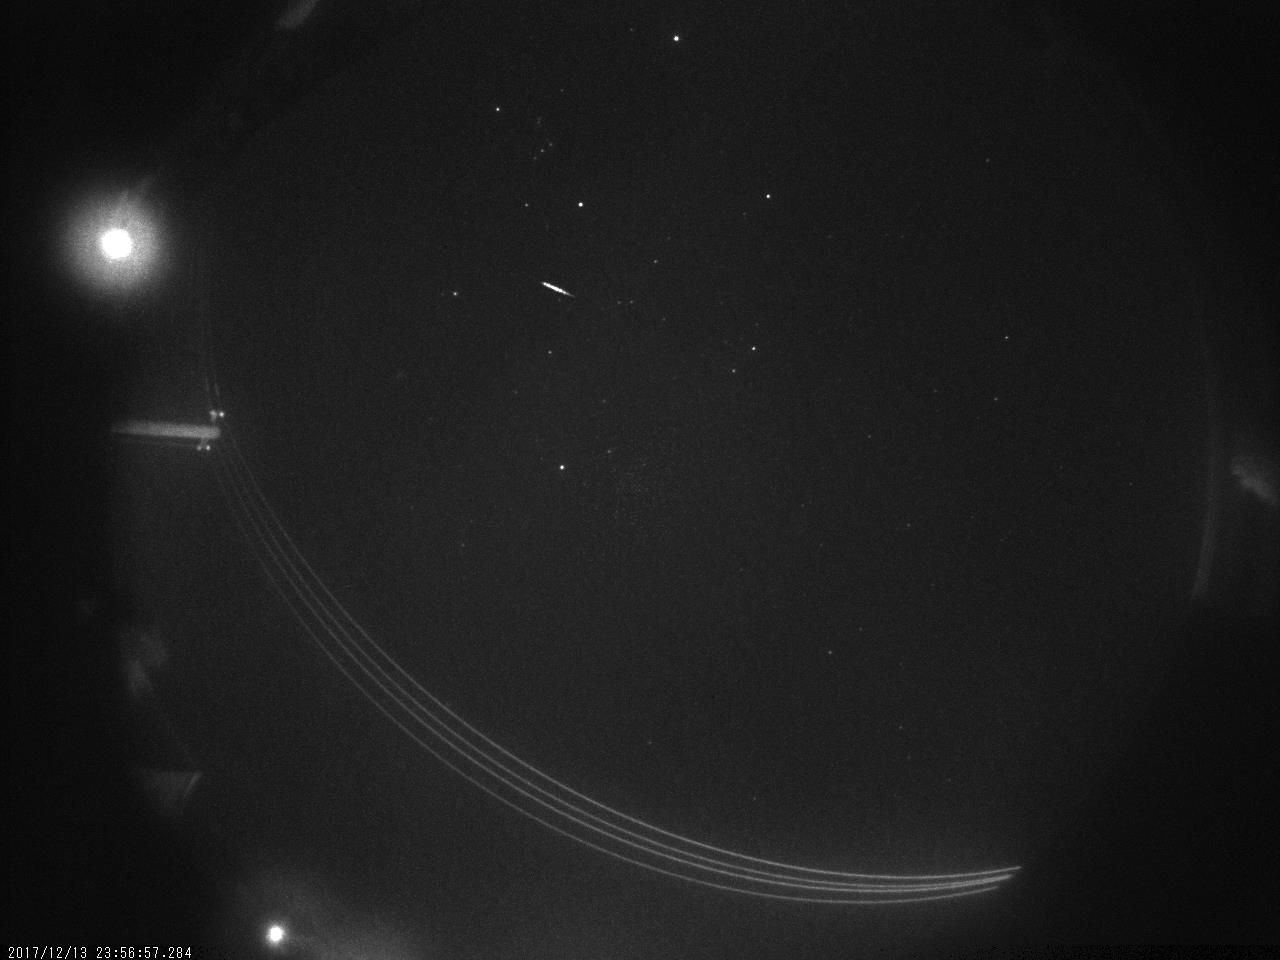meteor: (538, 275, 577, 307)
